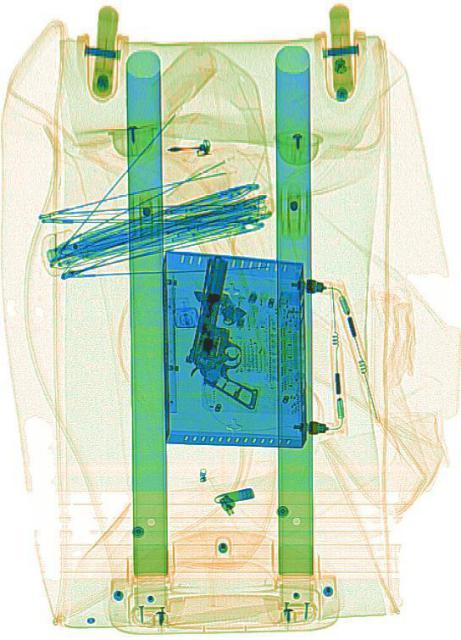Gun: (180, 252, 279, 410)
